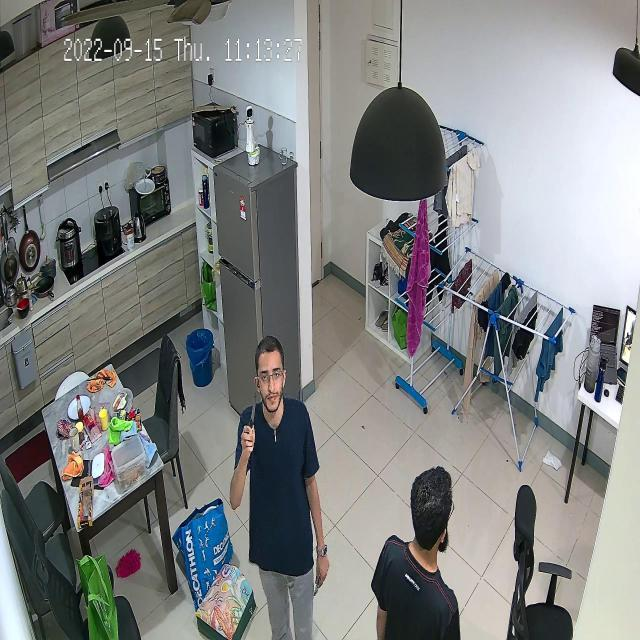Knife: (240, 380, 265, 437)
